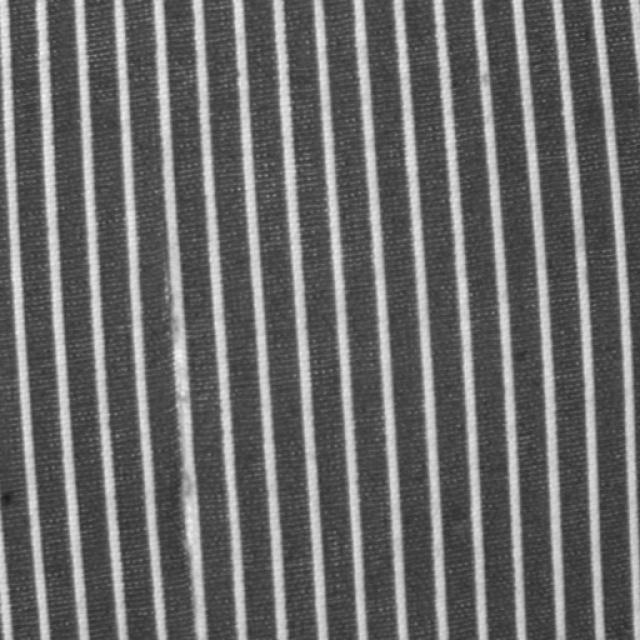Thread-Defect: (165, 228, 190, 576)
